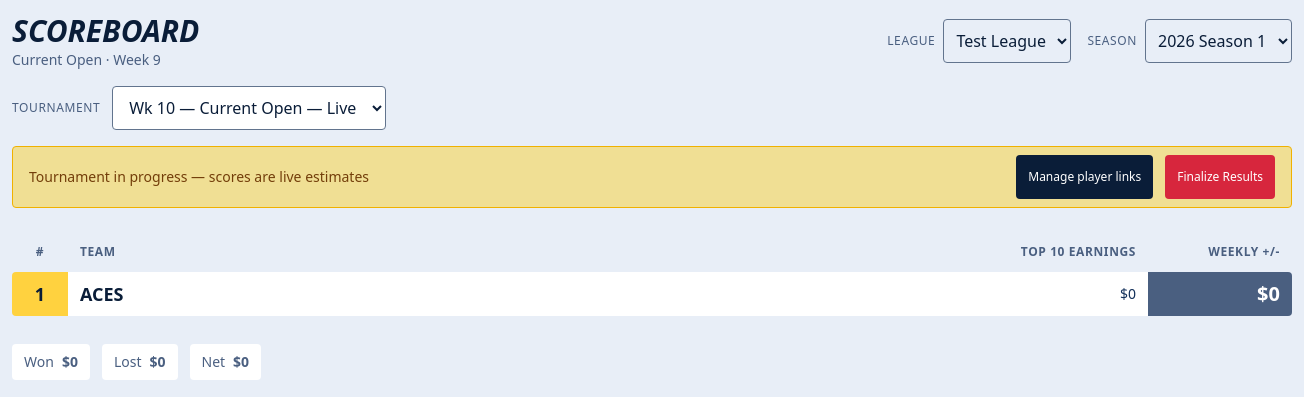
Test: ScoreboardPage › keeps both admin actions on the in-progress banner beside the error when finalizing fails
The width and height of the screenshot is (1304, 397).
Expected: the text "Tournament in progress — scores are live estimates" is shown, [29,166,369,186]
Click the button "Finalize Results" at (1220, 176), box [1165,154,1275,198]
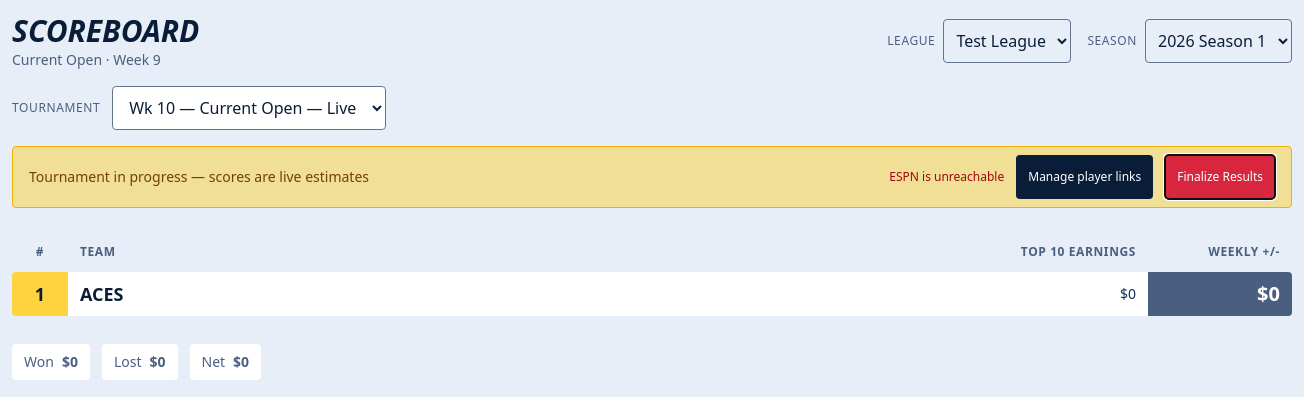
Expected: the button "Manage player links" is shown, [1016,154,1153,198]
Result: the message reads "ESPN is unreachable" at [889,168,1004,184]
